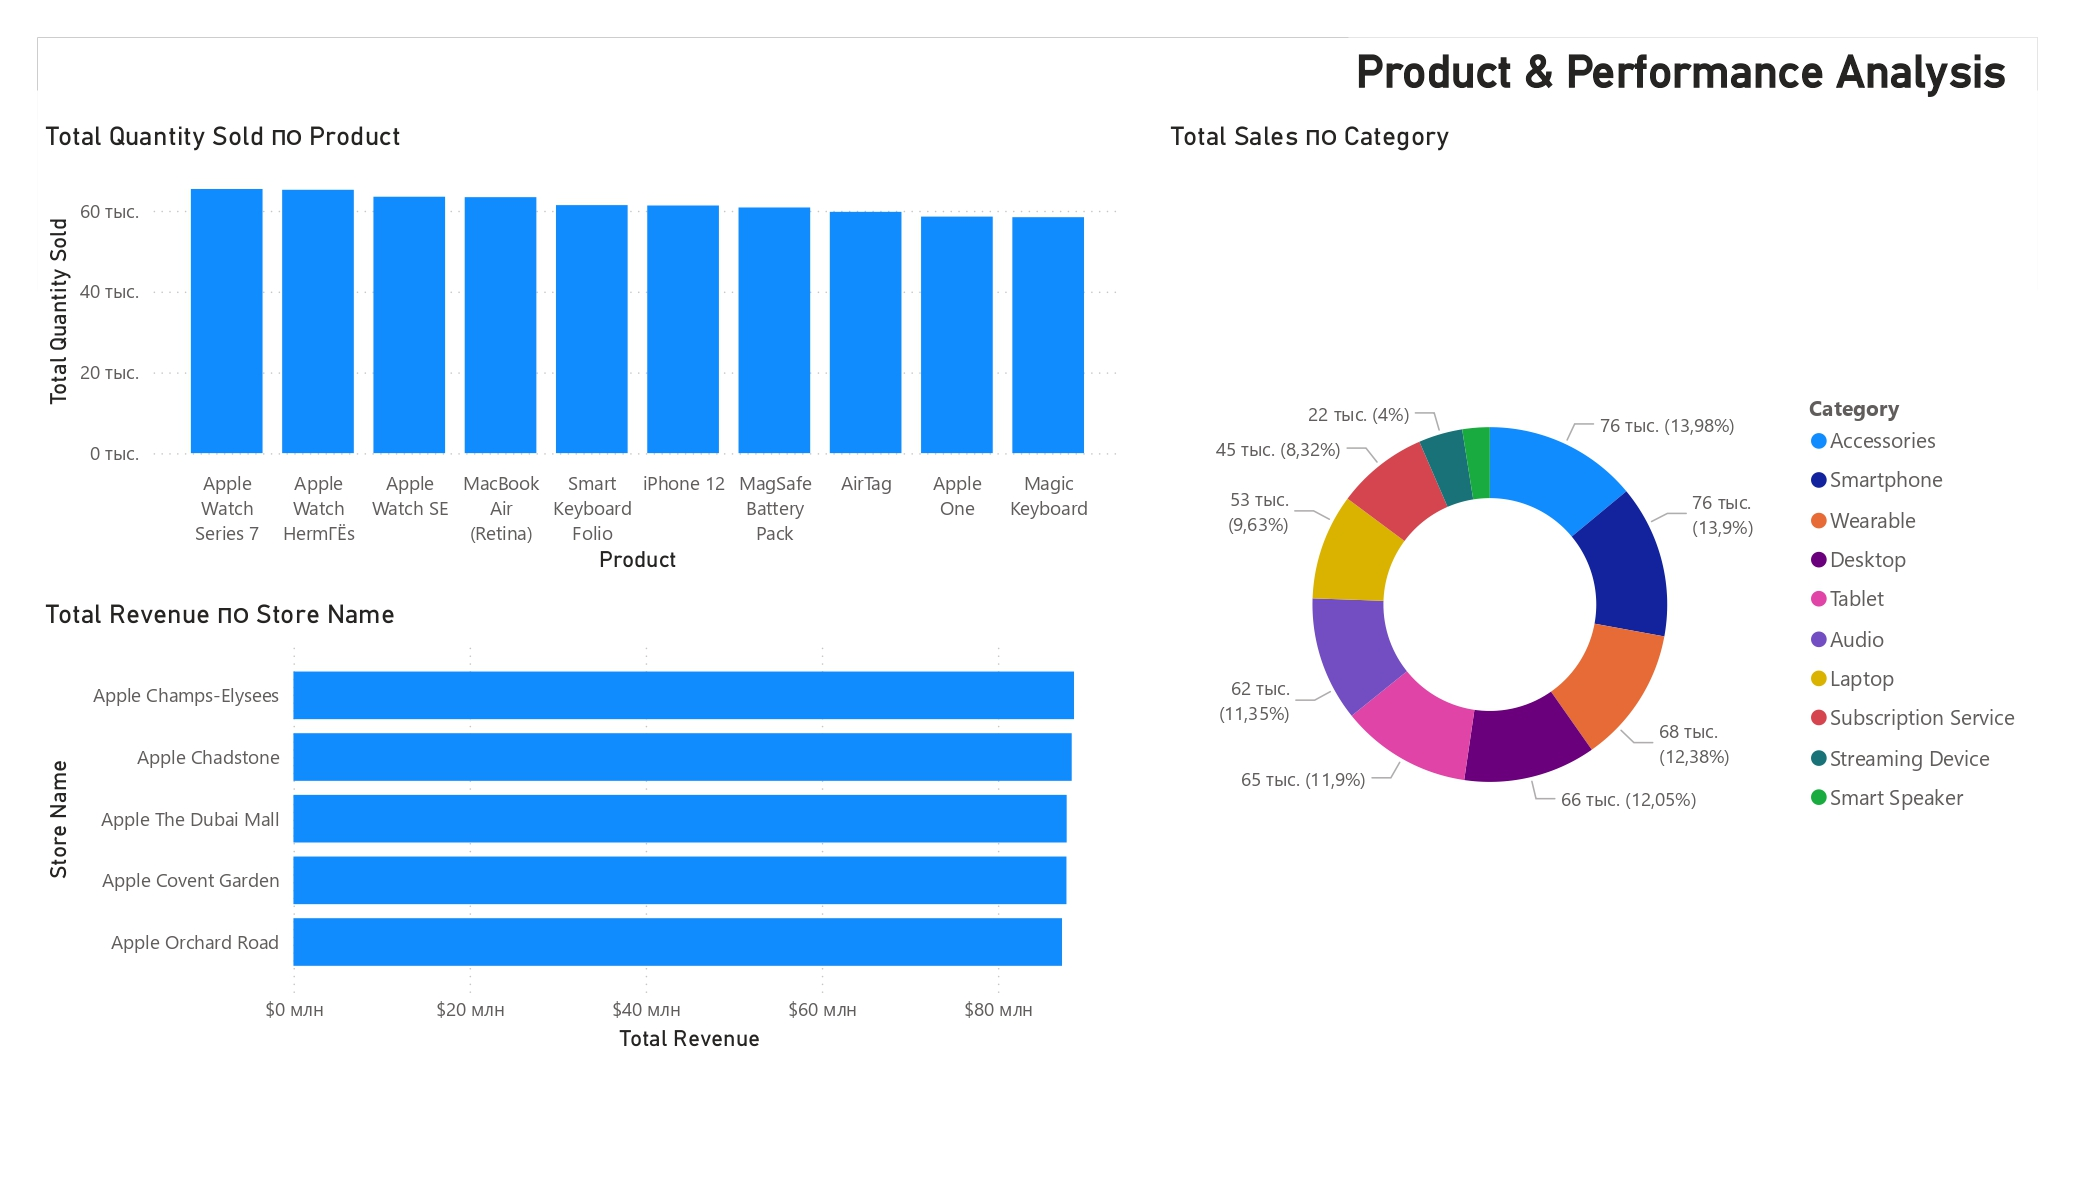

This screenshot's page, from the dashboard's own definition file:
{"tool":"powerbi","page":{"name":"Product & Performance Analysis","canvas":[1280,720],"ordinal":1},"visuals":[{"type":"columnChart","fields":{"Category":["public analytics_sales_valid.product_name"],"Y":["public analytics_sales_valid.Total Quantity Sold"]},"box":[0,51.5,699.4,295.7],"z":0},{"type":"textbox","box":[839.3,0,440.5,51.5],"z":1000},{"type":"barChart","fields":{"Y":["public analytics_sales_valid.Total Revenue"],"Category":["public analytics_sales_valid.store_name"]},"box":[0,358,699,296],"z":2000},{"type":"donutChart","fields":{"Y":["public analytics_sales_valid.Total Sales"],"Category":["public analytics_sales_valid.category_name"]},"box":[720.4,52.1,559.9,602.4],"z":3000}]}

Visuals, with their boxes in screenshot pixels (x1, y1, x2, y2):
columnChart - public analytics_sales_valid.product_name x public analytics_sales_valid.Total Quantity Sold: Rect(38, 118, 1130, 580)
textbox: Rect(1349, 38, 2037, 118)
barChart - public analytics_sales_valid.Total Revenue x public analytics_sales_valid.store_name: Rect(38, 597, 1130, 1059)
donutChart - public analytics_sales_valid.Total Sales x public analytics_sales_valid.category_name: Rect(1163, 119, 2038, 1060)
